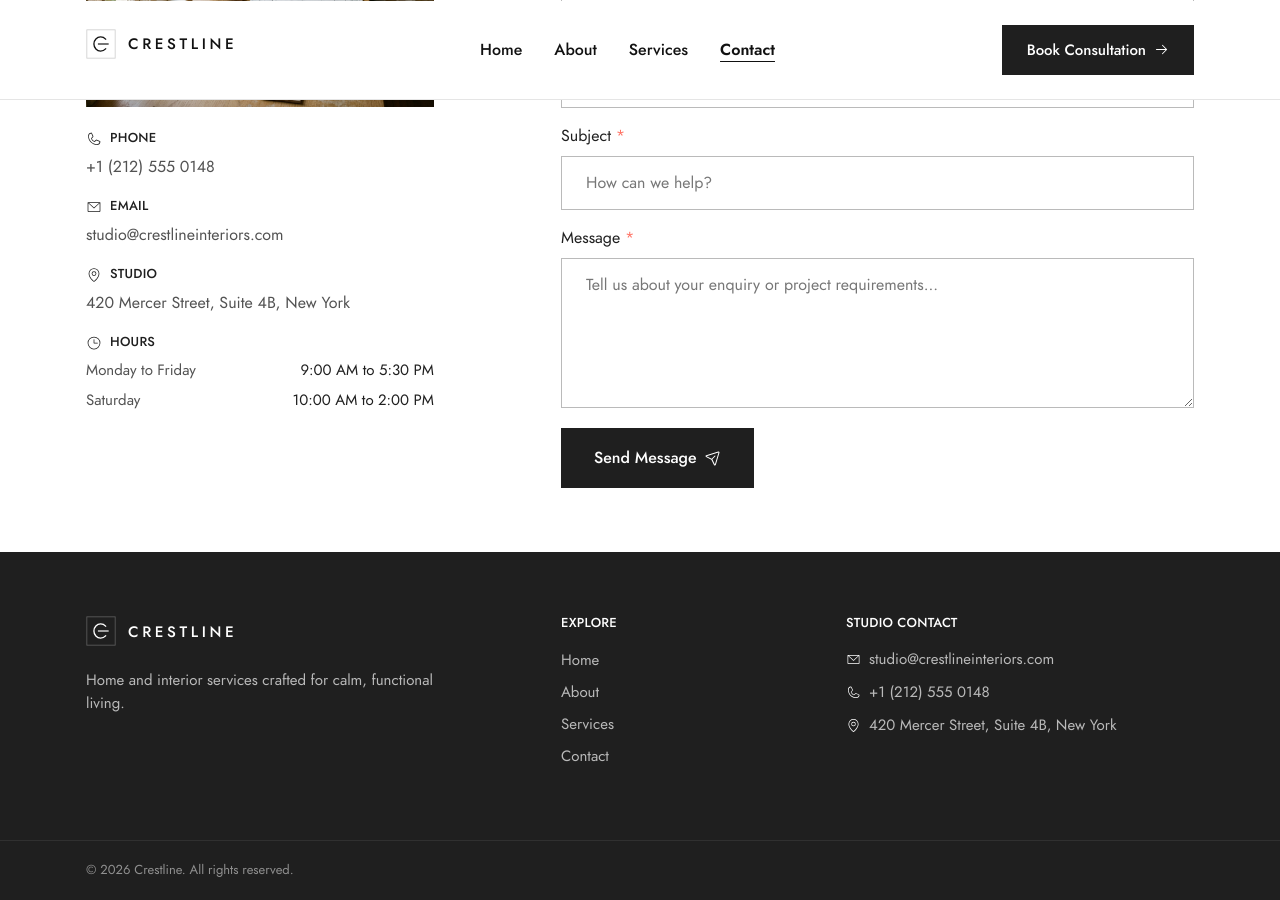
Test: Crestline Home & Interior Services Website › validates contact form fields and email format
(page scrolled)
Click the button "Send Message" at (657, 458), box [561,428,754,488]
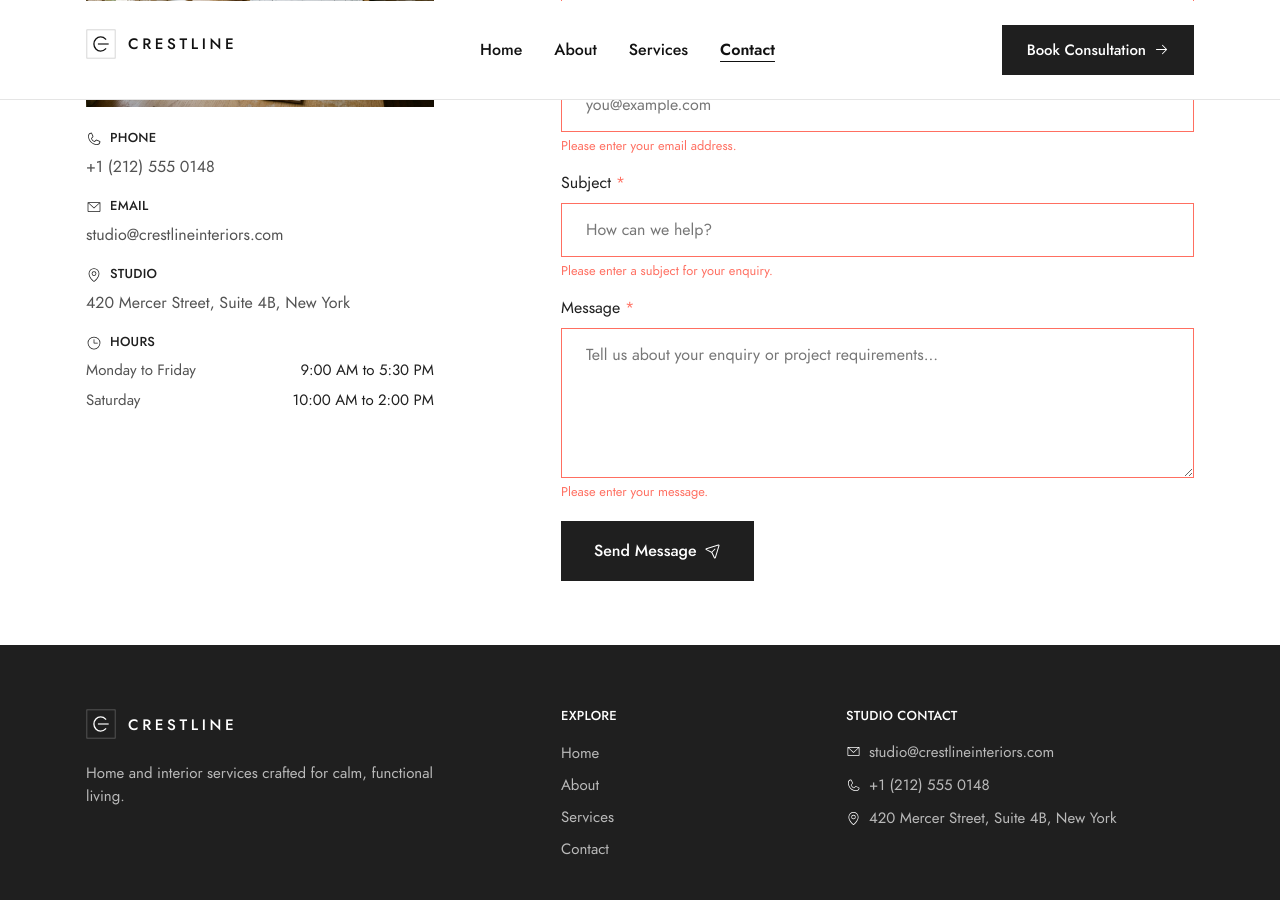
Check: the text "Please enter your email address." is shown, box [561,137,736,154]
Check: the text "Please enter a subject for your enquiry." is shown, box [561,262,773,279]
Check: the text "Please enter your message." is shown, box [561,483,708,500]
Type "invalid-email" into the field labelled "Email Address *" at (878, 105), box [561,78,1194,132]
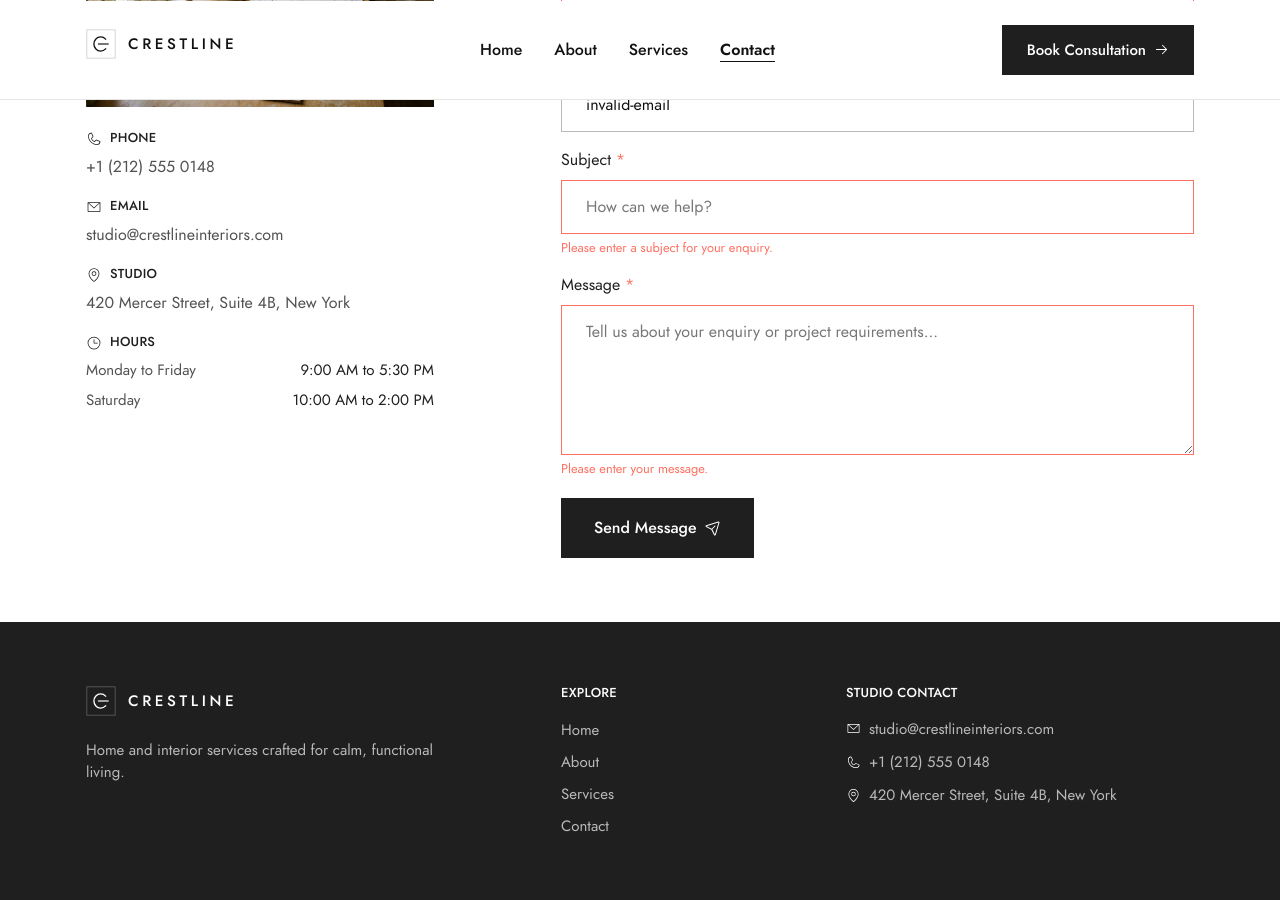
Click the button "Send Message" at (657, 528), box [561,498,754,558]
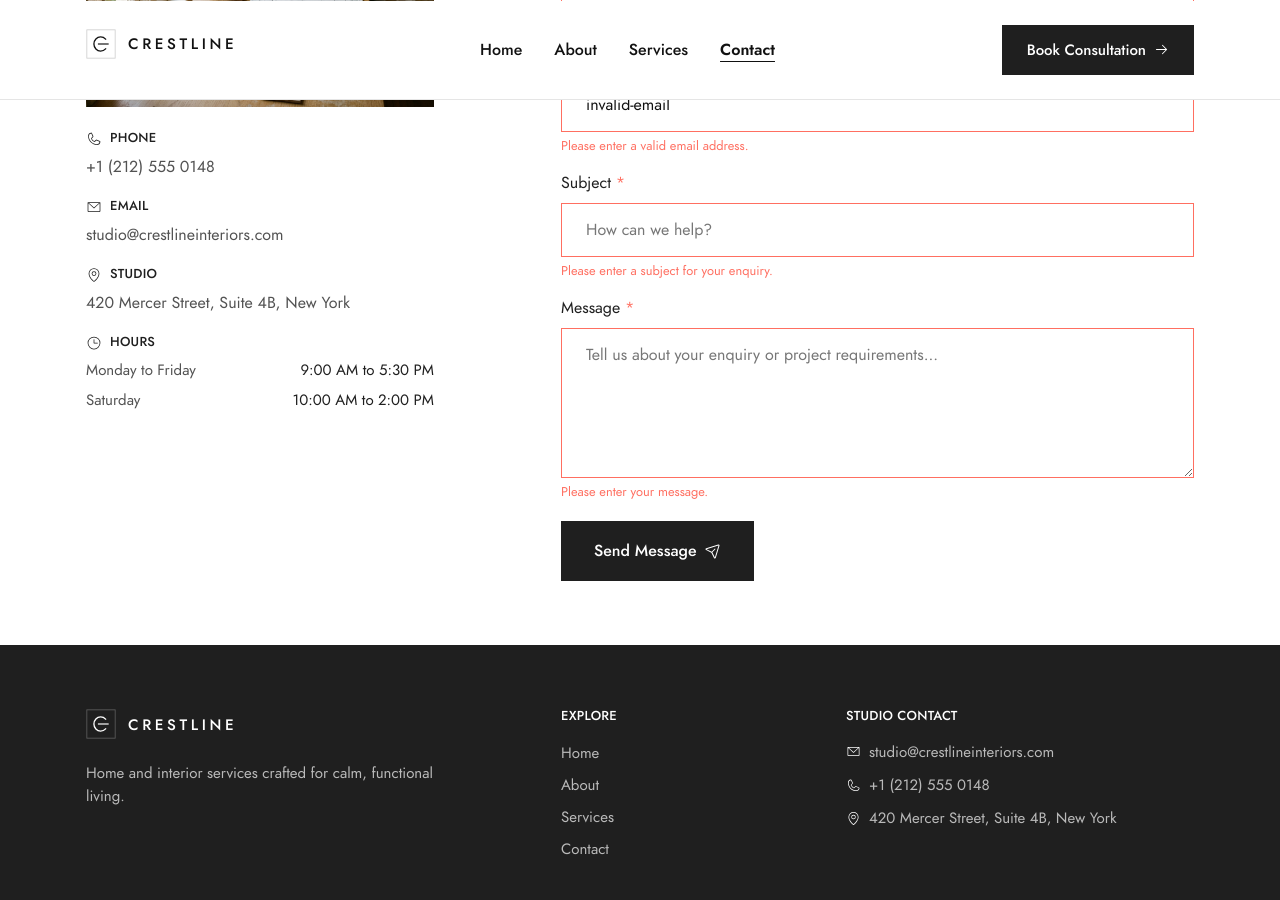
Check: the text "Please enter a valid email address." is shown, box [561,137,748,154]
